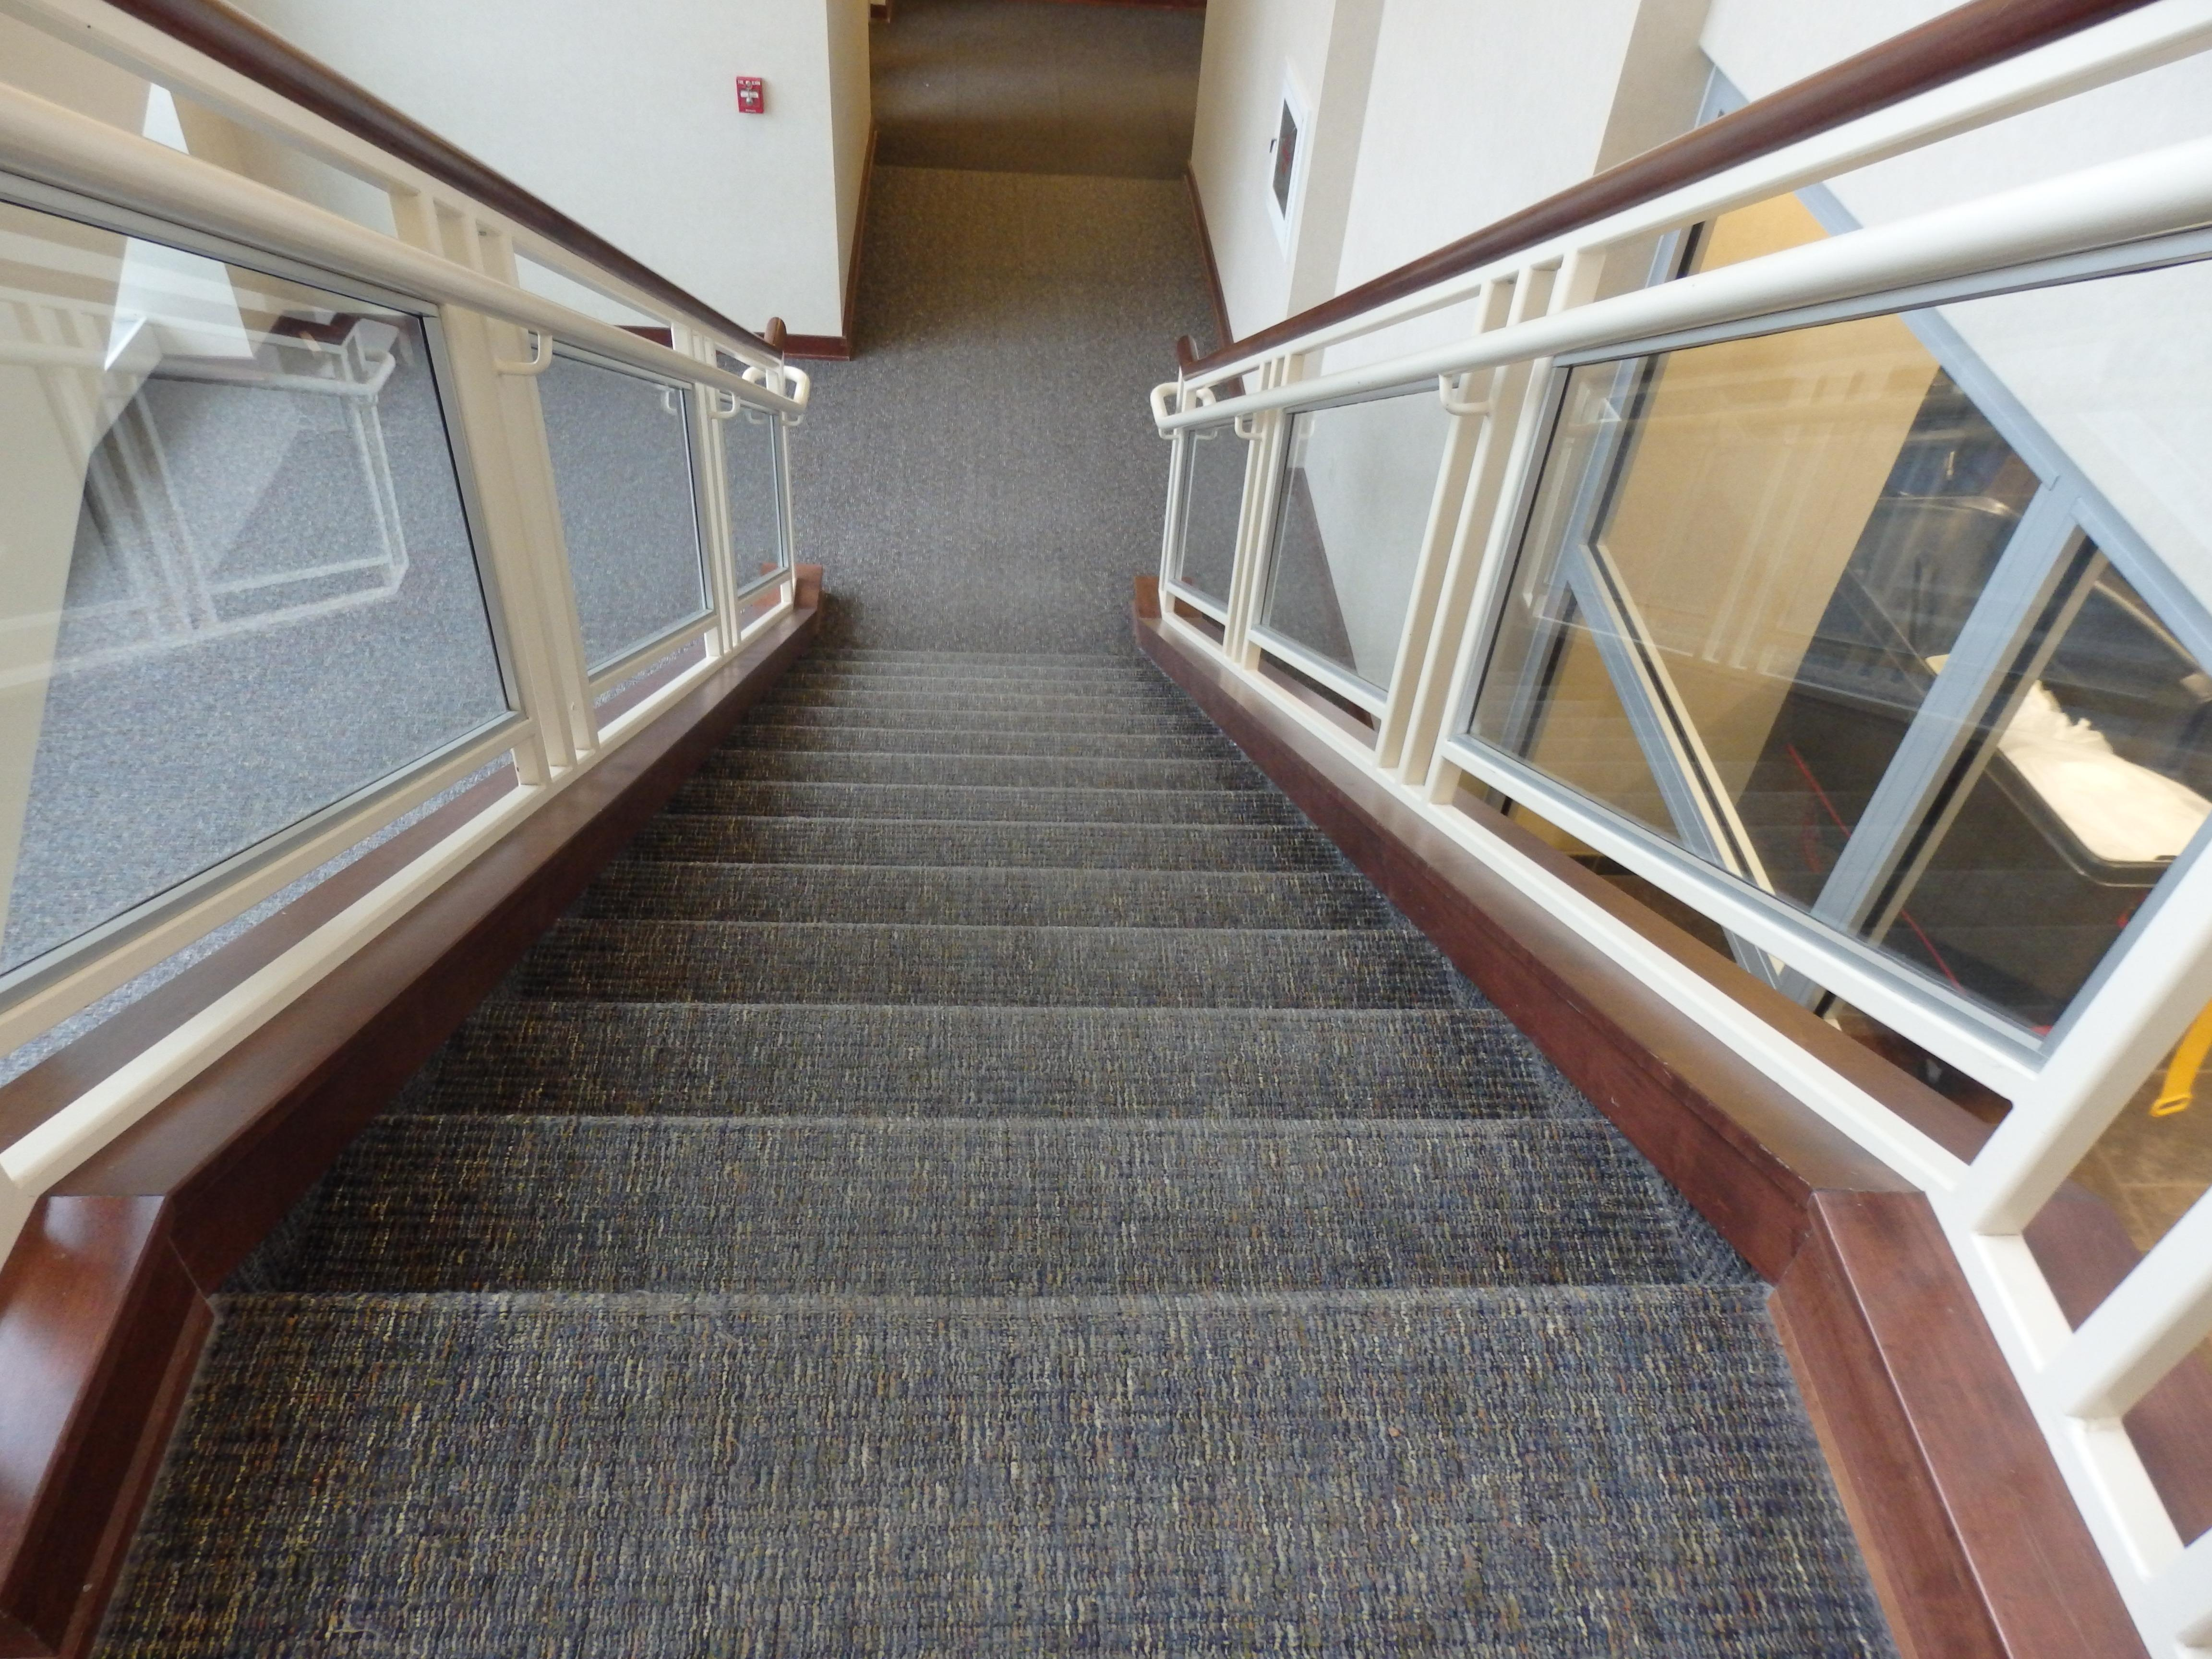stairs_down: (197, 603, 1777, 1398)
